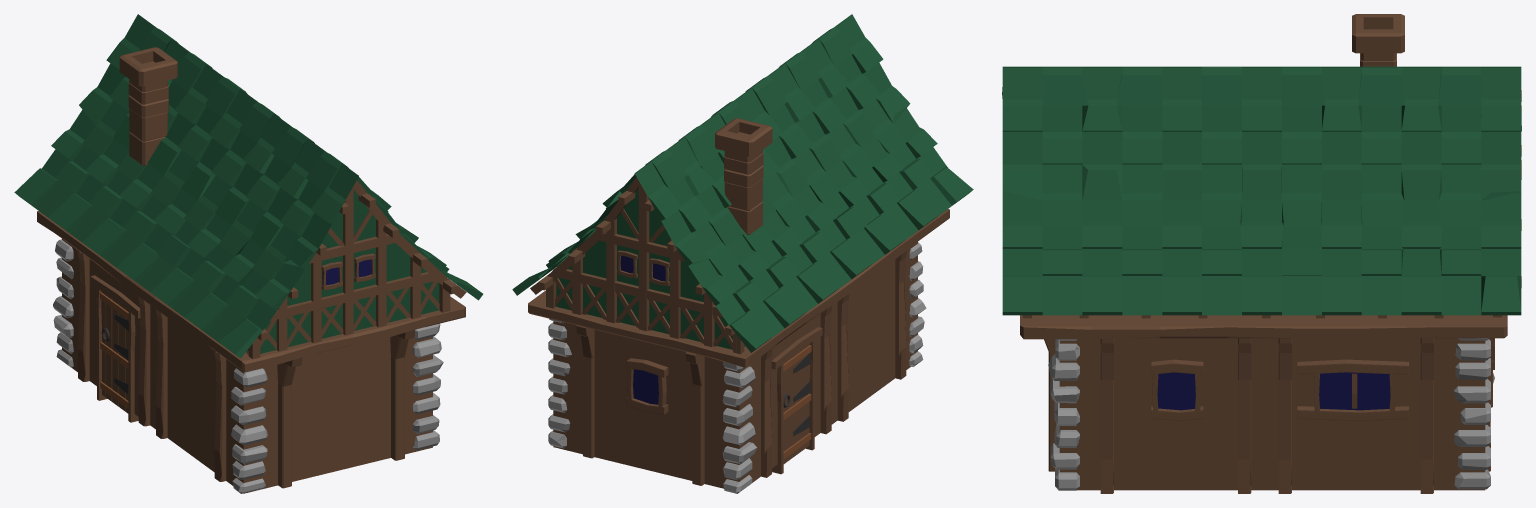
Rendered from house.fbx.
3 renders of one model, left to right at view 1: azimuth 30°, elevation 25°; view 2: azimuth 150°, elevation 25°; view 3: azimuth 270°, elevation 25°, orthographic. The views are drawn at different scales.
Parts seen in each view (by area): view 1: Cube.007; view 2: Cube.007; view 3: Cube.007.
Part boxes in pixels (x1,y1,x2,y2): Cube.007: [14, 14, 483, 493]; Cube.007: [512, 14, 973, 493]; Cube.007: [1002, 14, 1521, 493].
Size of the model in its own units: 78.42 by 101 by 122.
